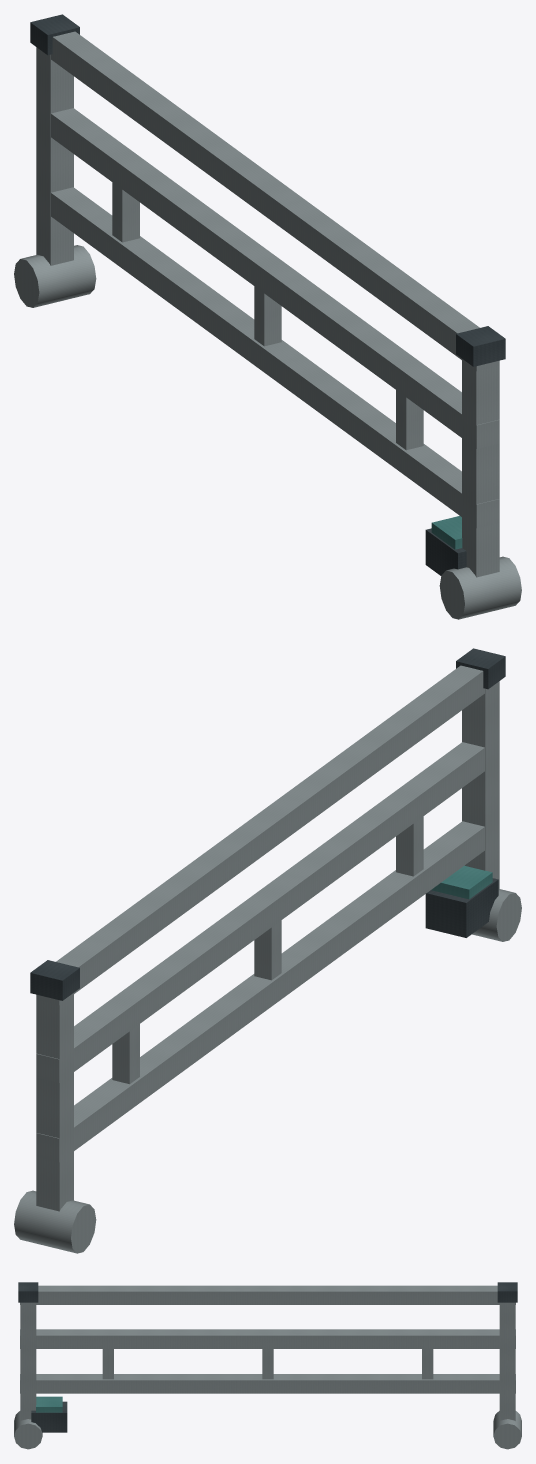
Rendered from PZ_LUCENT_H220_Left_SideRail_LOCAL_HINGE.glb.
The picture shows the model from 3 angles, top to bottom: view 1: azimuth 30°, elevation 25°; view 2: azimuth 150°, elevation 25°; view 3: azimuth 270°, elevation 25°; orthographic projection. The views are drawn at different scales.
Visible parts, largest first — view 1: BED_LEFT_SideRail_MidTube, BED_LEFT_SideRail_TopTube, BED_LEFT_SideRail_LowerTube, BED_LEFT_SideRail_EndUpright_FOOT, BED_LEFT_SideRail_EndUpright_HEAD, BED_LEFT_SideRail_PivotKnuckle_HEAD, BED_LEFT_SideRail_PivotKnuckle_FOOT, BED_LEFT_SideRail_EndGrip_FOOT, BED_LEFT_SideRail_Spindle_138, BED_LEFT_SideRail_Spindle_100, BED_LEFT_SideRail_Spindle_62, BED_LEFT_LatchBlock (+2 smaller); view 2: BED_LEFT_SideRail_MidTube, BED_LEFT_SideRail_TopTube, BED_LEFT_SideRail_LowerTube, BED_LEFT_SideRail_EndUpright_HEAD, BED_LEFT_SideRail_EndUpright_FOOT, BED_LEFT_SideRail_PivotKnuckle_HEAD, BED_LEFT_LatchBlock, BED_LEFT_SideRail_EndGrip_HEAD, BED_LEFT_SideRail_PivotKnuckle_FOOT, BED_LEFT_SideRail_Spindle_62, BED_LEFT_SideRail_Spindle_100, BED_LEFT_SideRail_Spindle_138 (+2 smaller); view 3: BED_LEFT_SideRail_MidTube, BED_LEFT_SideRail_TopTube, BED_LEFT_SideRail_LowerTube, BED_LEFT_SideRail_EndUpright_HEAD, BED_LEFT_SideRail_EndUpright_FOOT, BED_LEFT_SideRail_PivotKnuckle_HEAD, BED_LEFT_LatchBlock, BED_LEFT_SideRail_PivotKnuckle_FOOT, BED_LEFT_ReleaseButton, BED_LEFT_SideRail_EndGrip_FOOT, BED_LEFT_SideRail_EndGrip_HEAD, BED_LEFT_SideRail_Spindle_100 (+2 smaller).
Boxes of the visible parts, x1,y1,x2,y2 form: BED_LEFT_SideRail_MidTube: (51, 108, 499, 448); BED_LEFT_SideRail_TopTube: (51, 31, 499, 371); BED_LEFT_SideRail_LowerTube: (51, 187, 499, 528); BED_LEFT_SideRail_EndUpright_FOOT: (462, 359, 499, 577); BED_LEFT_SideRail_EndUpright_HEAD: (36, 47, 73, 265); BED_LEFT_SideRail_PivotKnuckle_HEAD: (14, 245, 96, 307); BED_LEFT_SideRail_PivotKnuckle_FOOT: (439, 556, 521, 619); BED_LEFT_SideRail_EndGrip_FOOT: (456, 326, 505, 366); BED_LEFT_SideRail_Spindle_138: (112, 182, 139, 242); BED_LEFT_SideRail_Spindle_100: (254, 286, 281, 346); BED_LEFT_SideRail_Spindle_62: (396, 390, 423, 450); BED_LEFT_LatchBlock: (425, 528, 466, 575); BED_LEFT_SideRail_MidTube: (36, 742, 484, 1082); BED_LEFT_SideRail_TopTube: (36, 665, 484, 1005); BED_LEFT_SideRail_LowerTube: (36, 821, 484, 1162); BED_LEFT_SideRail_EndUpright_HEAD: (36, 993, 73, 1211); BED_LEFT_SideRail_EndUpright_FOOT: (462, 681, 499, 888); BED_LEFT_SideRail_PivotKnuckle_HEAD: (14, 1190, 96, 1253); BED_LEFT_LatchBlock: (425, 878, 498, 937); BED_LEFT_SideRail_EndGrip_HEAD: (30, 960, 79, 1000); BED_LEFT_SideRail_PivotKnuckle_FOOT: (472, 889, 521, 941); BED_LEFT_SideRail_Spindle_62: (396, 816, 423, 876); BED_LEFT_SideRail_Spindle_100: (254, 920, 281, 980); BED_LEFT_SideRail_Spindle_138: (112, 1024, 139, 1084); BED_LEFT_SideRail_MidTube: (20, 1329, 515, 1348); BED_LEFT_SideRail_TopTube: (20, 1285, 515, 1304); BED_LEFT_SideRail_LowerTube: (20, 1374, 515, 1393); BED_LEFT_SideRail_EndUpright_HEAD: (499, 1302, 515, 1420); BED_LEFT_SideRail_EndUpright_FOOT: (20, 1302, 36, 1420); BED_LEFT_SideRail_PivotKnuckle_HEAD: (493, 1411, 521, 1449); BED_LEFT_LatchBlock: (31, 1401, 67, 1432); BED_LEFT_SideRail_PivotKnuckle_FOOT: (14, 1411, 42, 1449); BED_LEFT_ReleaseButton: (36, 1396, 62, 1412); BED_LEFT_SideRail_EndGrip_FOOT: (18, 1282, 38, 1302); BED_LEFT_SideRail_EndGrip_HEAD: (497, 1282, 517, 1302); BED_LEFT_SideRail_Spindle_100: (262, 1349, 273, 1379).
Bounding box in the file's own units: 0.088 × 0.406 × 1.21.
3 materials, 3 textured.
